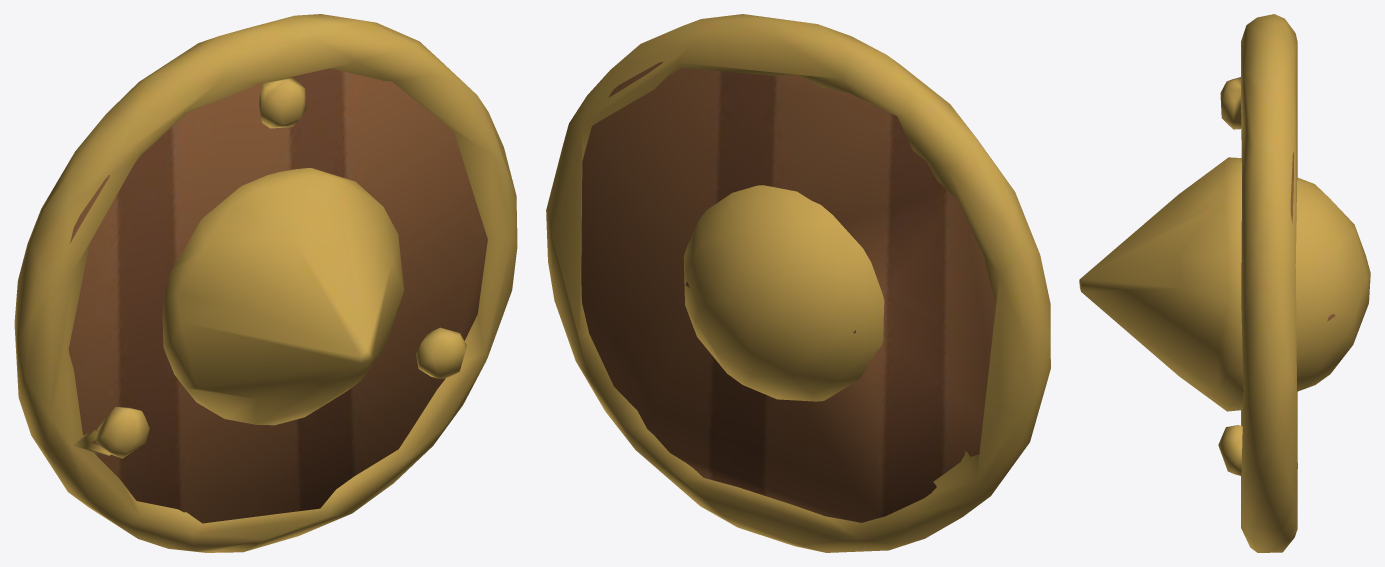
File: fighter-buckler.glb
3 views of the same model, side by side, from view 1: azimuth 30°, elevation 25°; view 2: azimuth 150°, elevation 25°; view 3: azimuth 270°, elevation 25° (orthographic). The views are drawn at different scales.
Visible parts, largest first — view 1: buckler; view 2: buckler; view 3: buckler.
Boxes of the visible parts, box(x1,y1,x2,y2) form: buckler: box(14, 14, 517, 552); buckler: box(546, 14, 1050, 552); buckler: box(1079, 14, 1370, 552).
Size of the model in its own units: 0.2655 by 0.2646 by 0.1428.
1 material, 1 textured.
